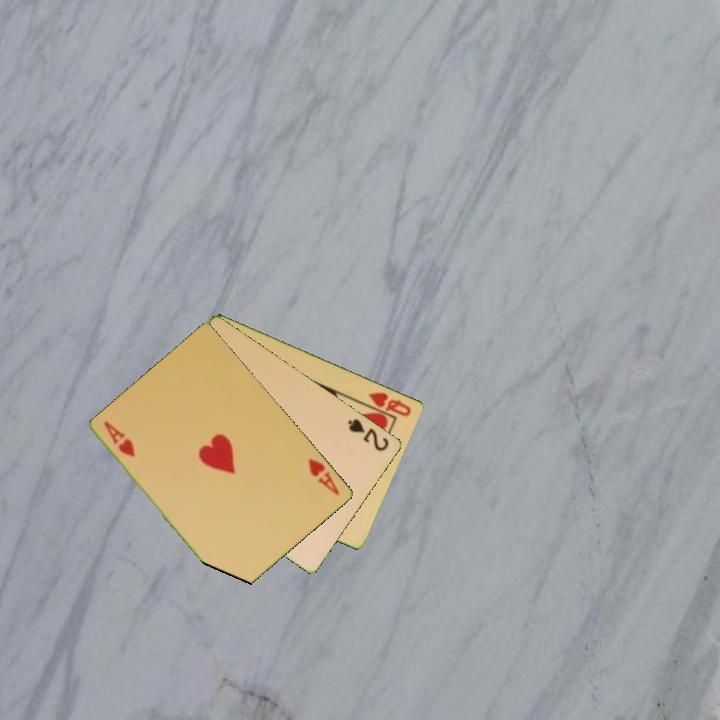2s: (344, 415, 392, 454)
Ah: (305, 455, 343, 498), (101, 417, 139, 460)
Qh: (365, 388, 414, 419)
